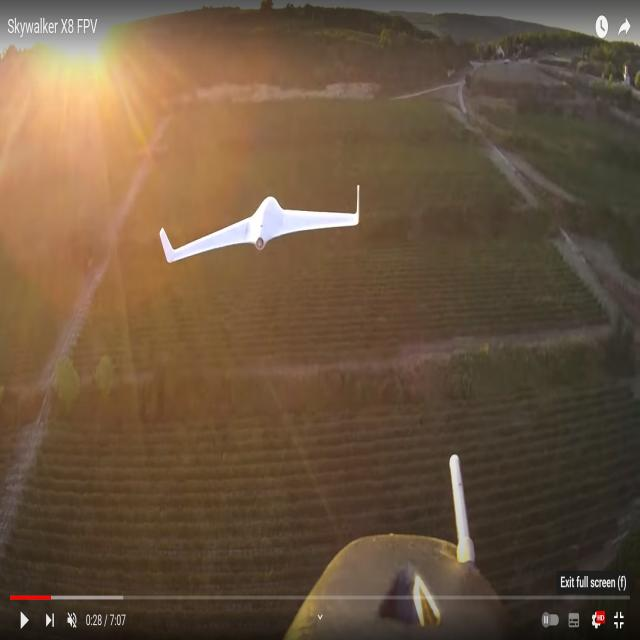iha: (159, 222, 365, 239)
